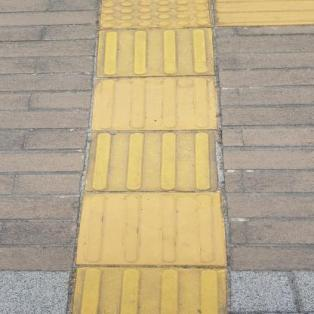Podoctatil: (50, 0, 313, 313)
